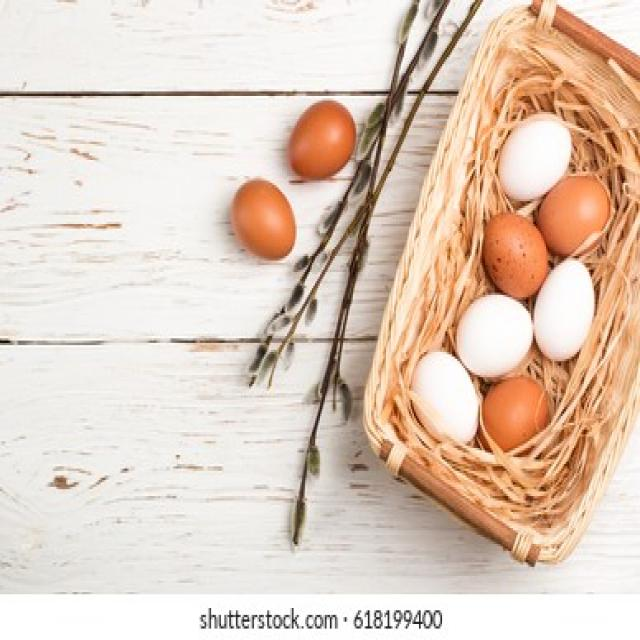Brown Egg: (480, 377, 555, 462), (286, 98, 358, 182), (231, 178, 299, 258), (472, 213, 544, 287), (542, 173, 612, 246)
White Egg: (499, 107, 570, 215), (456, 290, 532, 380), (414, 344, 481, 444), (538, 254, 592, 368)
